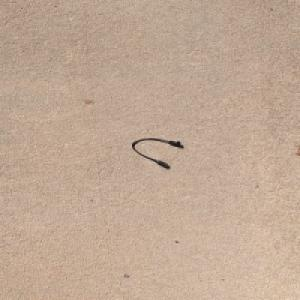Wire: (130, 137, 182, 168)
